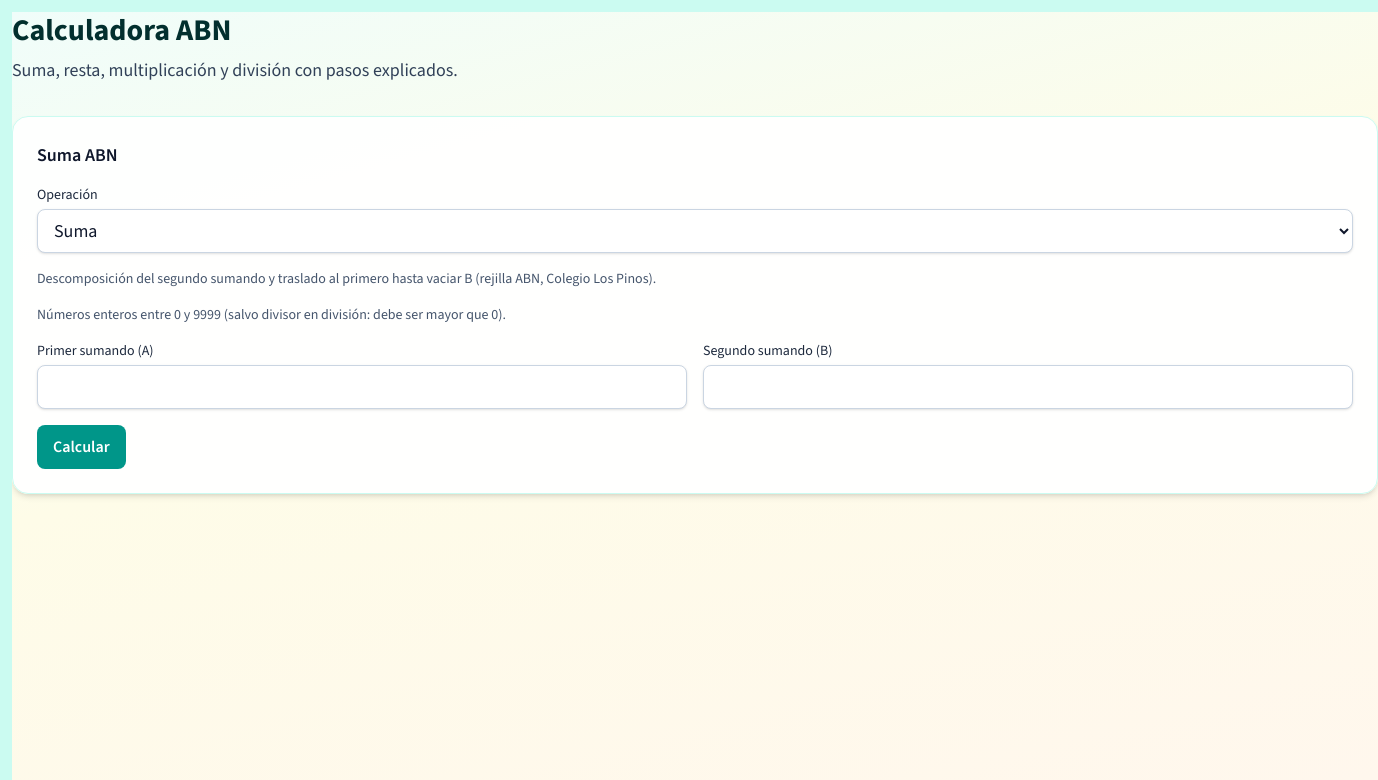
Scenario: CalculatorPage › rejects divisor cero en división
Select "División" in the dropdown labelled "Operación": (695, 231) [37,209,1353,253]
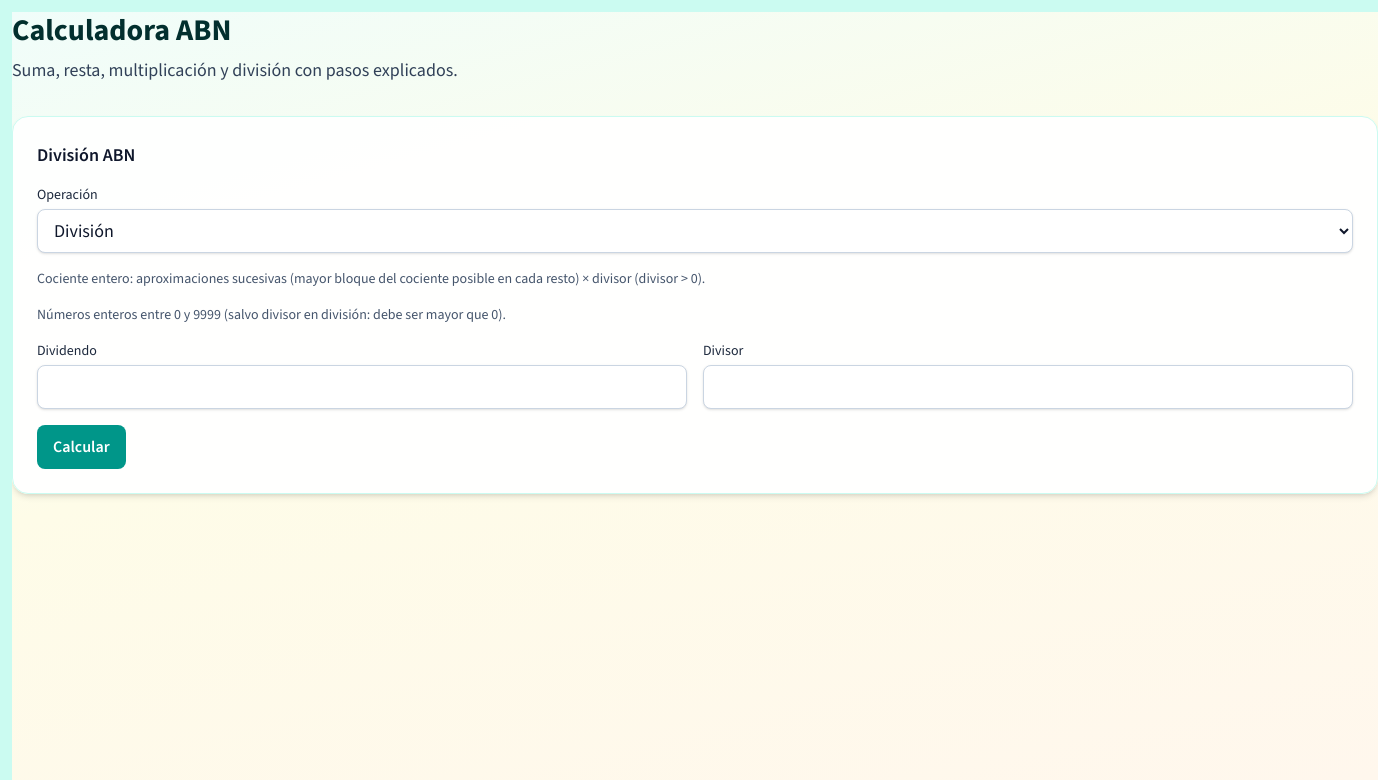
In the field labelled "Dividendo": (362, 387) [37,365,687,409], type "10"
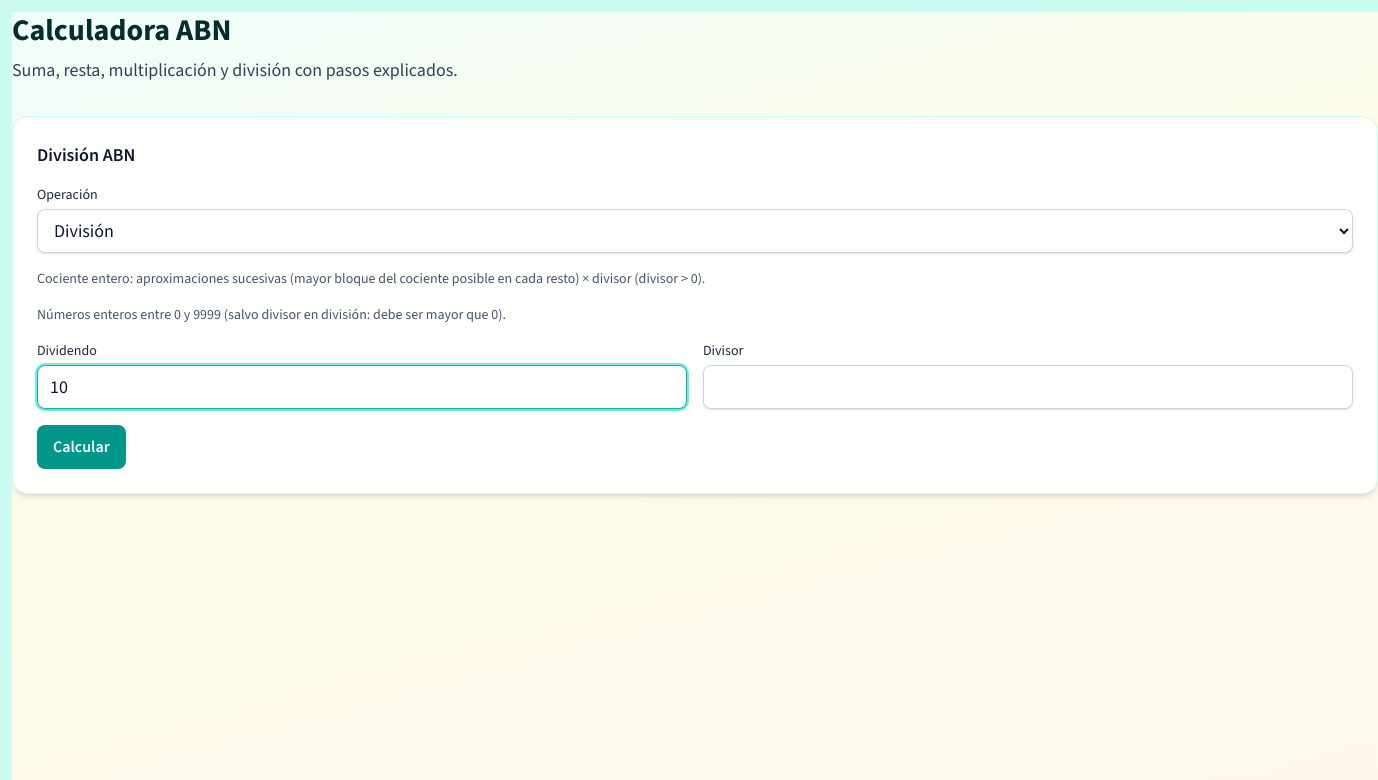
In the field labelled "Divisor": (1028, 387) [703,365,1353,409], type "0"
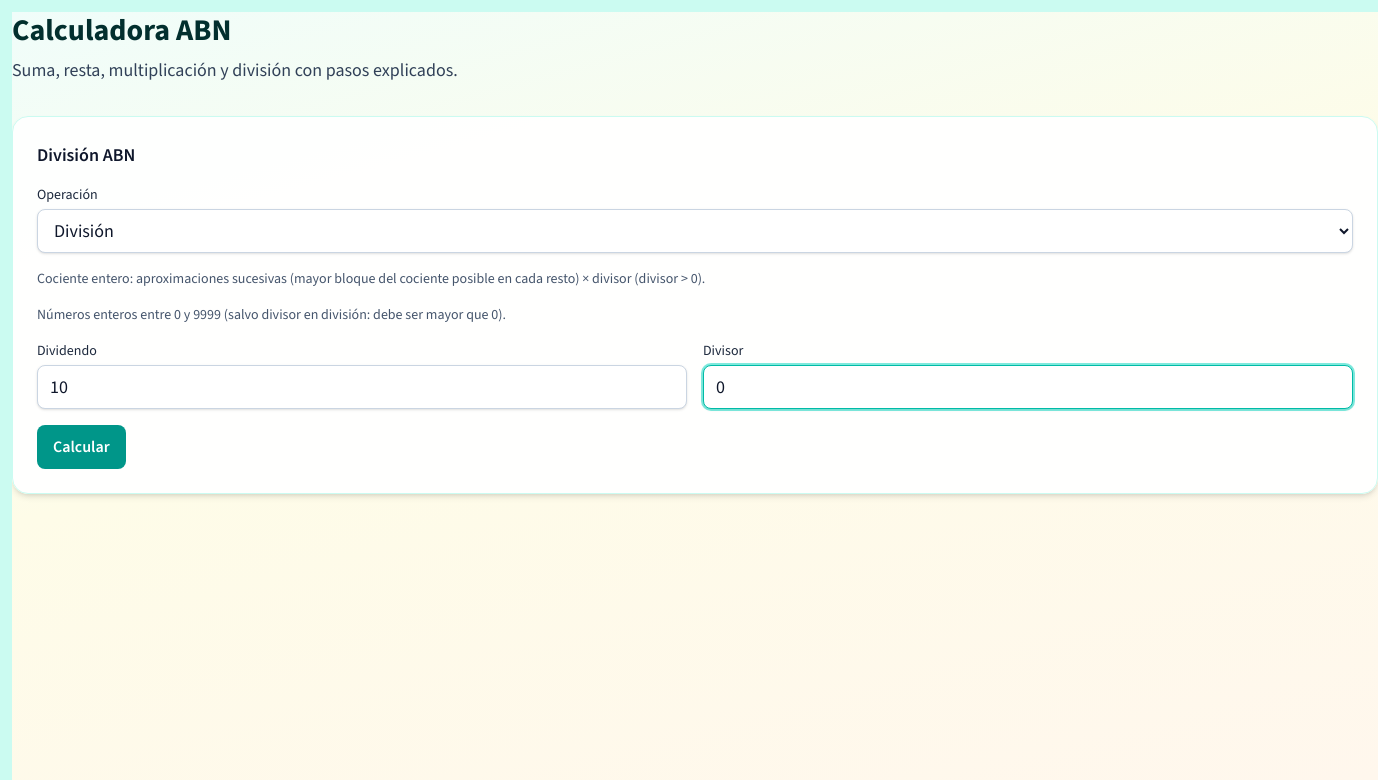
Click the button "Calcular": click(81, 447) [37,425,126,469]
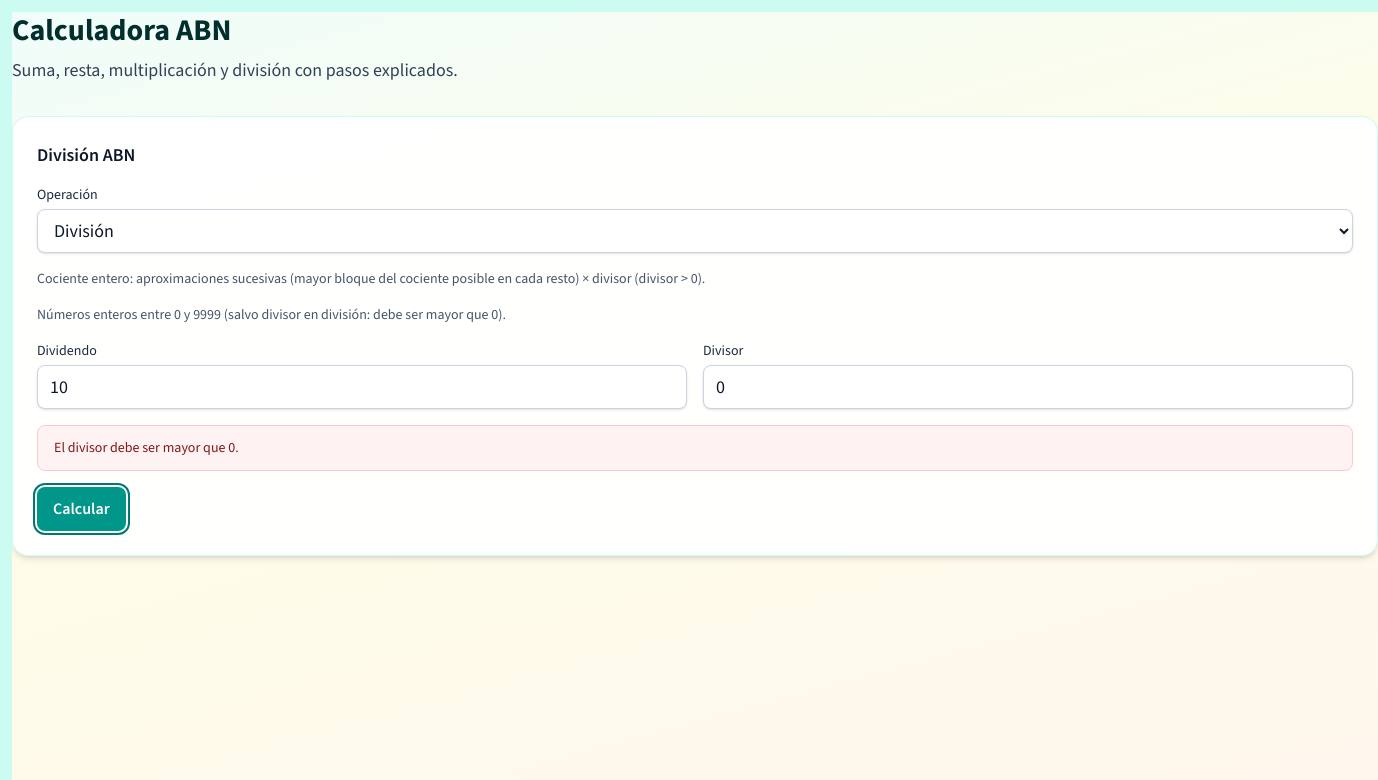
Expected: the message shows "divisor", [54,438,239,457]
